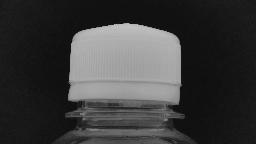Loose Cap: (58, 76, 198, 122)
